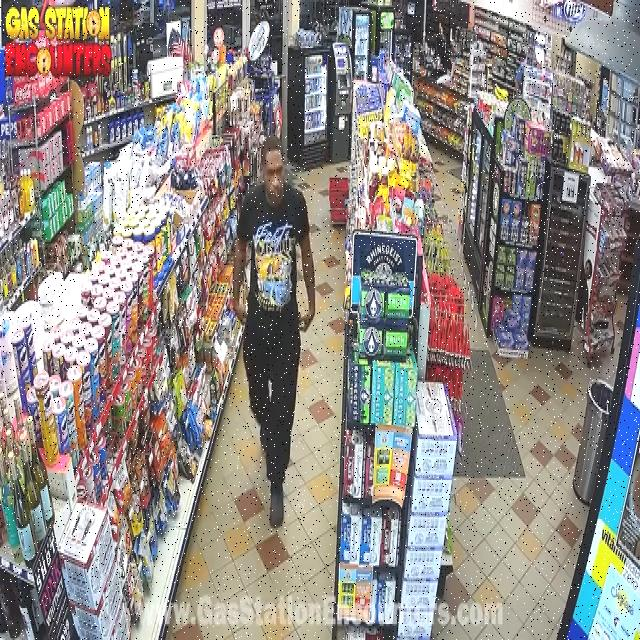hands: (299, 244, 314, 331), (232, 242, 246, 322)
person: (232, 135, 315, 526)
